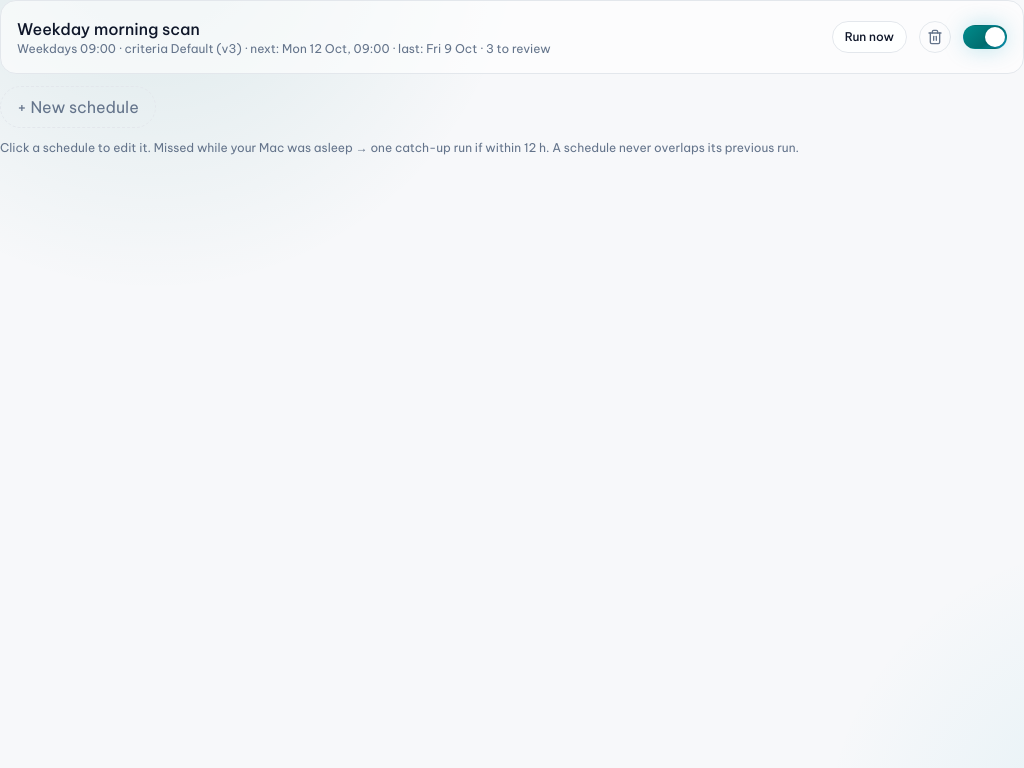
Scenario: SchedulesScreen (UC-21) › deletes after confirming, and Undo restores the schedule
Click the button named "Delete Weekday morning scan". click: click(935, 37)
box: 919,21 -> 951,53
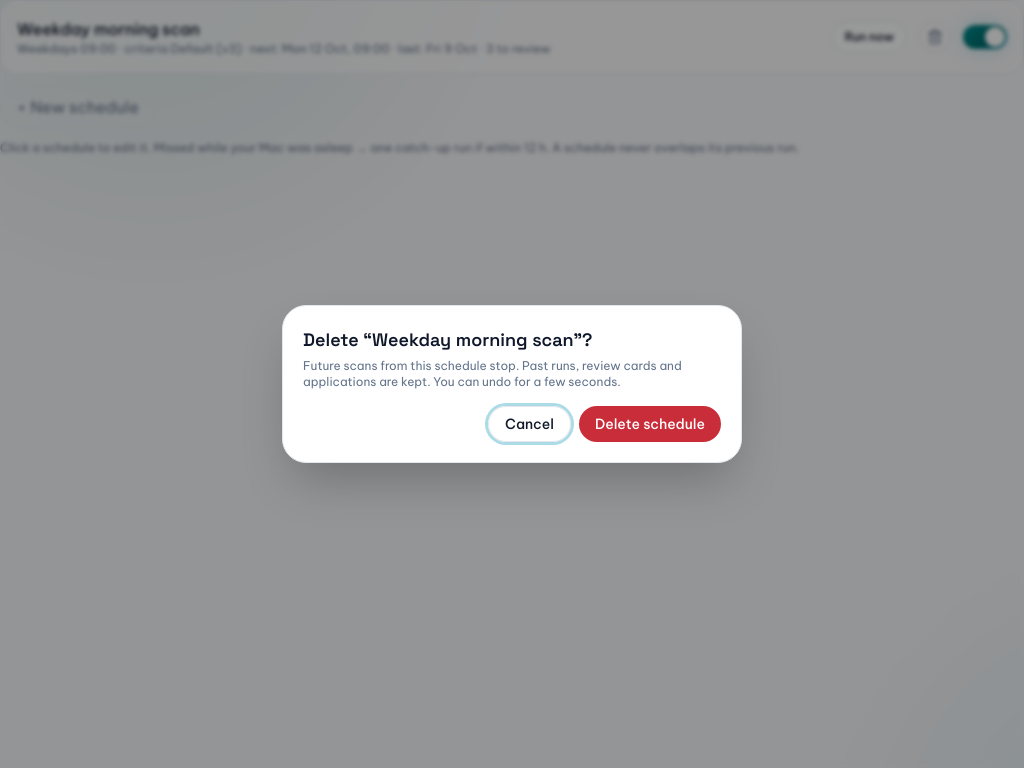
Check: the heading "Delete “Weekday morning scan”?" is shown, box 303,328 -> 592,351
Click the button "Delete schedule". click: click(650, 424)
box: 579,406 -> 721,442
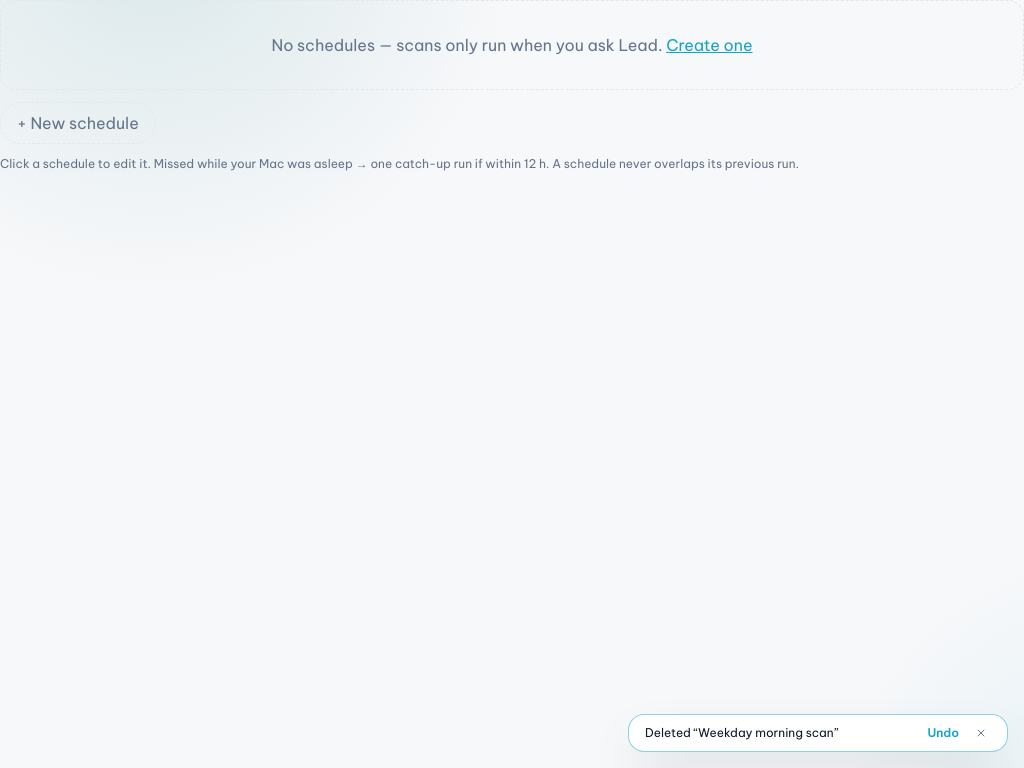
Check: no list items with test id "schedule-row" are shown
Check: the element with test id "schedules-empty" shows "No schedules — scans only run when you ask Lead.", box 272,35 -> 663,55
Check: the text "Deleted “Weekday morning scan”" is shown, box 645,725 -> 838,740
Click the button "Undo". click: click(943, 733)
box: 927,725 -> 959,741
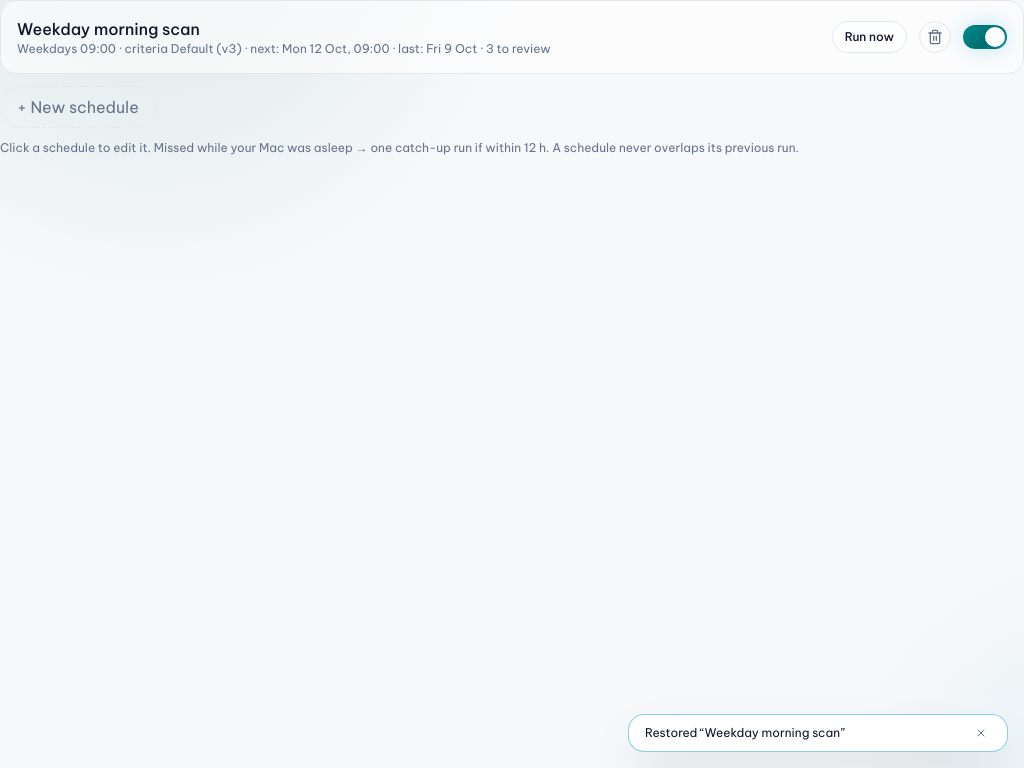
Check: the number of list items with test id "schedule-row" is 1, box 0,0 -> 1023,74
Check: the text "Restored “Weekday morning scan”" is shown, box 645,725 -> 845,740
